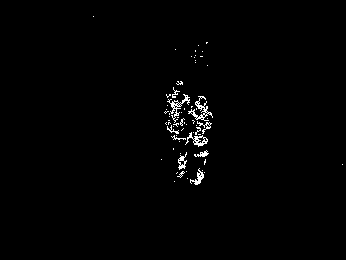person: (166, 79, 190, 176), (190, 95, 215, 185)
